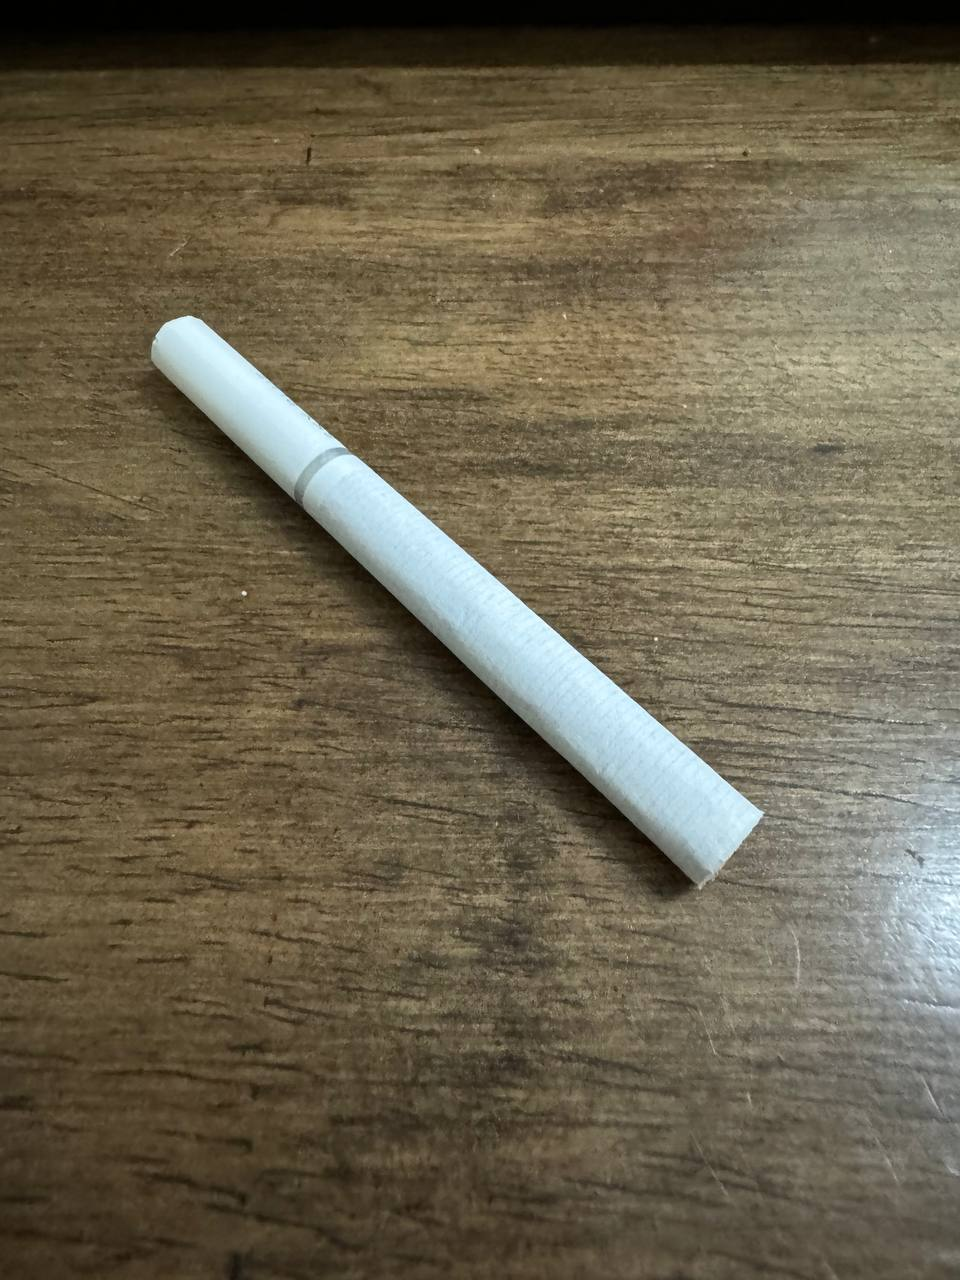trash: (141, 304, 779, 896)
